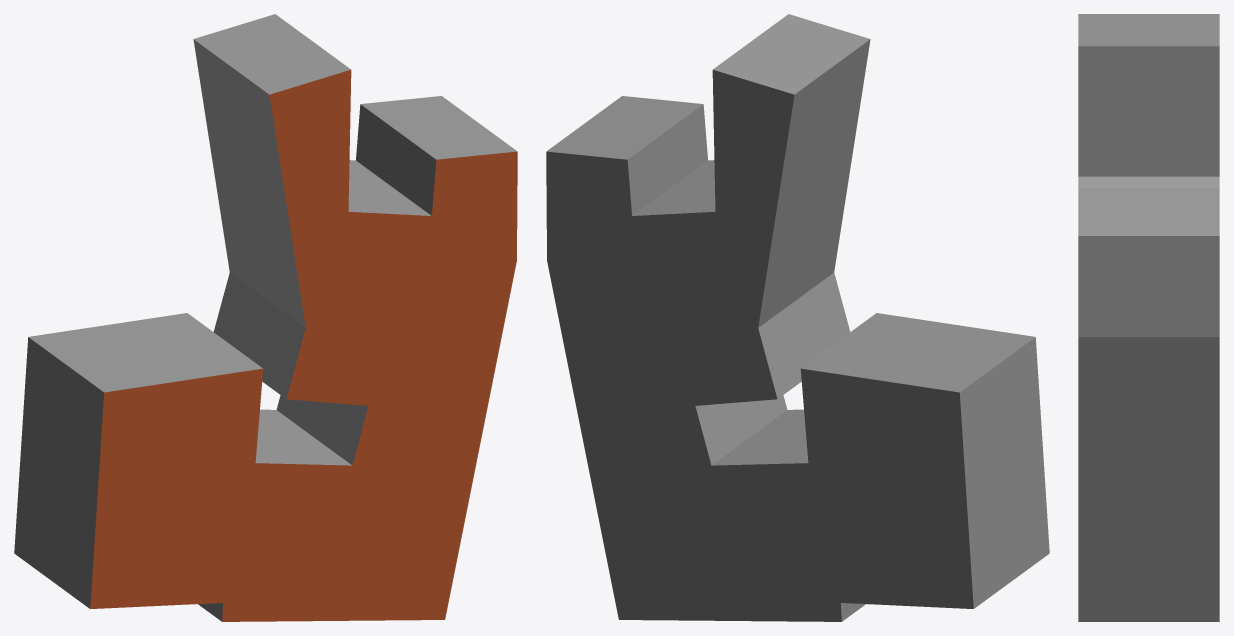
Rendered from construction_5616_assumed_A_Casa_h6m.obj.
The picture shows the model from 3 angles, left to right: view 1: azimuth 30°, elevation 25°; view 2: azimuth 150°, elevation 25°; view 3: azimuth 270°, elevation 25°; orthographic projection. The views are drawn at different scales.
Parts seen in each view (by area): view 1: construction_5616_assumed_A_Casa; view 2: construction_5616_assumed_A_Casa; view 3: construction_5616_assumed_A_Casa.
Part boxes in pixels (left/top/right/bottom): construction_5616_assumed_A_Casa: left=14, top=14, right=517, bottom=621; construction_5616_assumed_A_Casa: left=546, top=14, right=1049, bottom=621; construction_5616_assumed_A_Casa: left=1078, top=14, right=1219, bottom=621.
Bounding box in the file's own units: 19.49 × 24.96 × 6.
